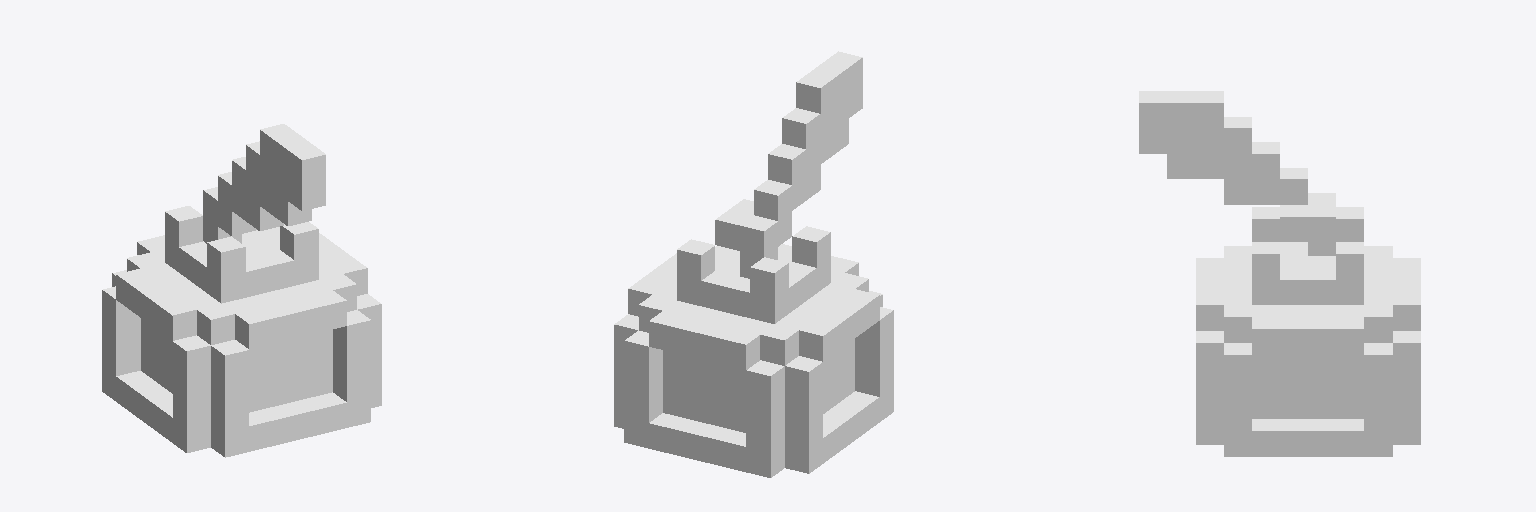
The model's file is ink_bottle.vox.obj.
The picture shows the model from 3 angles: view 1: azimuth 30°, elevation 25°; view 2: azimuth 150°, elevation 25°; view 3: azimuth 270°, elevation 25°; orthographic projection.
Parts seen in each view (by area): view 1: object 1; view 2: object 1; view 3: object 1.
Part boxes in pixels (bbox=[...]): object 1: bbox=[102, 124, 381, 457]; object 1: bbox=[614, 51, 893, 477]; object 1: bbox=[1139, 91, 1420, 456].
Bounding box in the file's own units: 0.8 × 1.2 × 1.